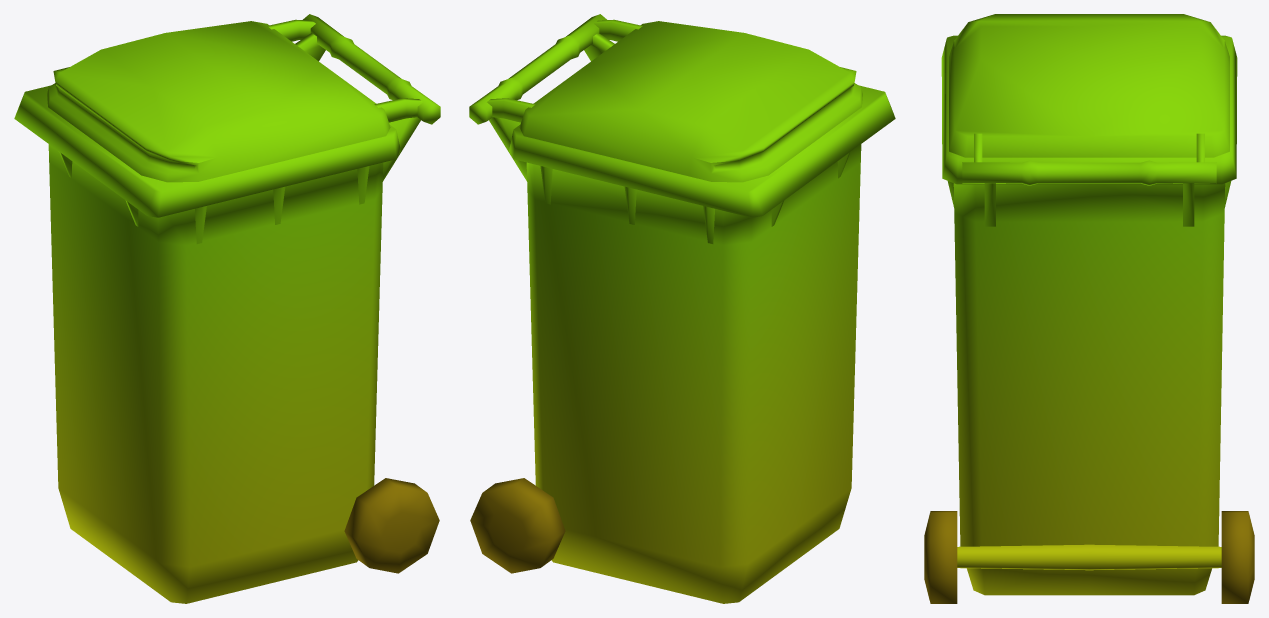
The model's file is WheelyBinGreen.glb.
3 renders of one model, left to right at view 1: azimuth 30°, elevation 25°; view 2: azimuth 150°, elevation 25°; view 3: azimuth 270°, elevation 25°, orthographic. The views are drawn at different scales.
Parts seen in each view (by area): view 1: WheelyBinGreen; view 2: WheelyBinGreen; view 3: WheelyBinGreen.
Boxes of the visible parts, <box> form: WheelyBinGreen: <box>14,14,440,603</box>; WheelyBinGreen: <box>469,14,895,603</box>; WheelyBinGreen: <box>924,14,1254,603</box>.
Bounding box in the file's own units: 1.42 × 2.14 × 1.31.
1 material, 1 textured.
